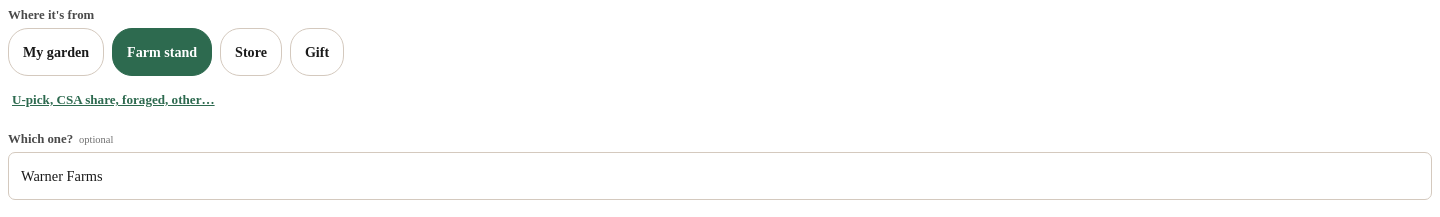
Test: WhereFromField — choosing › a typed name stays between two kinds that take one, and goes when the garden is chosen
Click the radio button labelled "Gift". click: (317, 52)
box: [290,28,344,76]
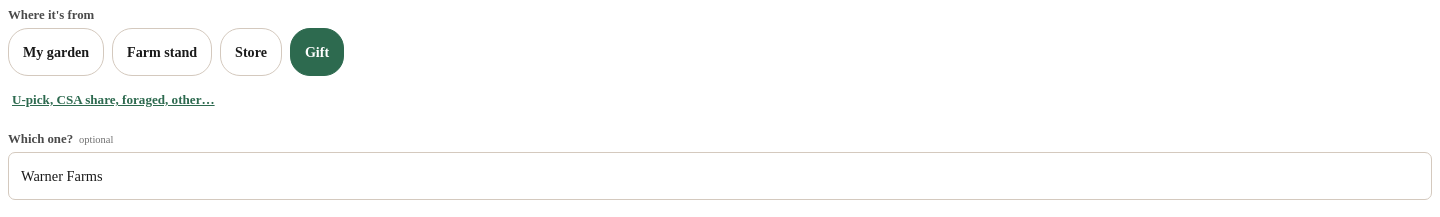
expect the field with test id "t-source-label" holds "Warner Farms": met, box [8,152,1432,200]
Click the radio button labelled "My garden". click: (56, 52)
box: [8,28,104,76]
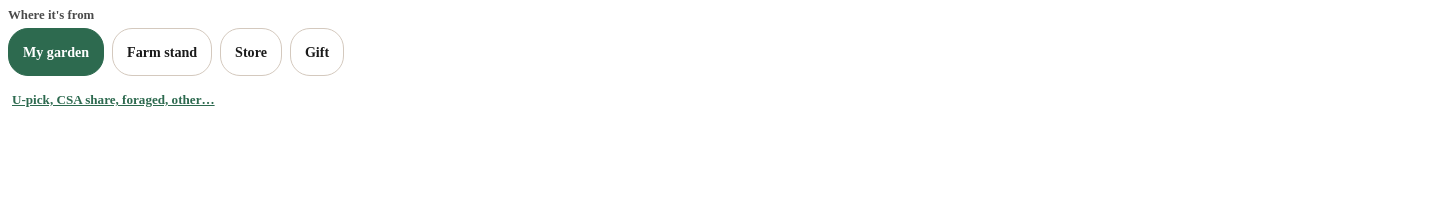
expect the label with test id "t-source-label" is gone: met
